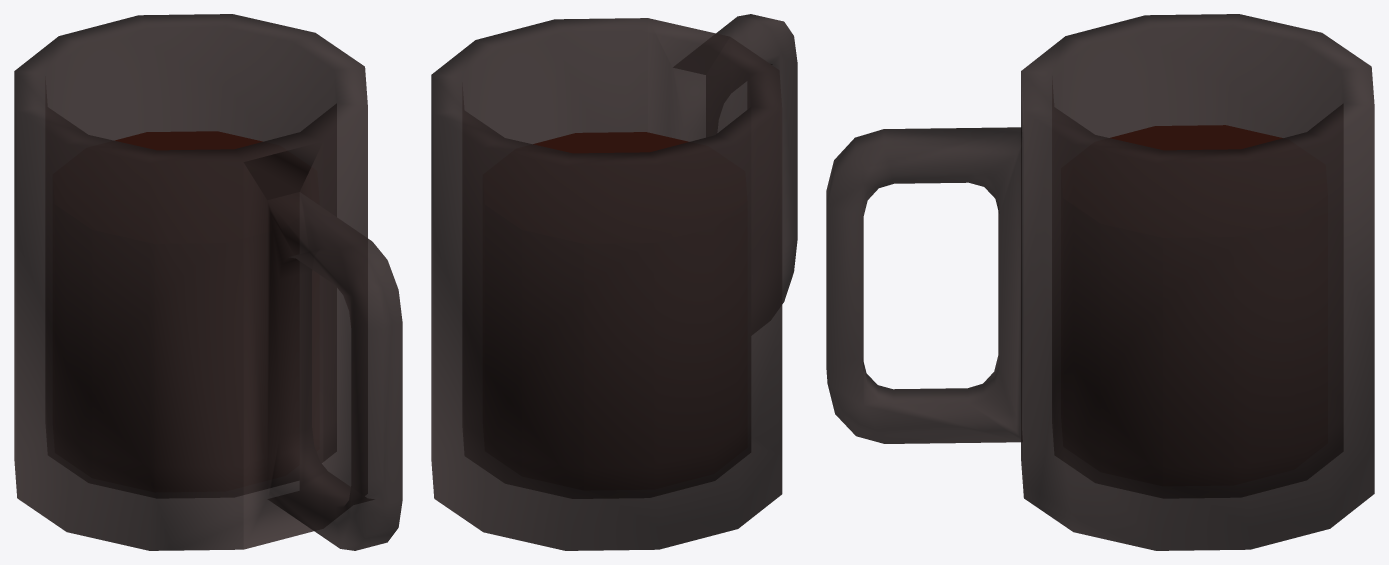
File: Mug.glb
3 renders of one model, left to right at view 1: azimuth 30°, elevation 25°; view 2: azimuth 150°, elevation 25°; view 3: azimuth 270°, elevation 25°, orthographic.
Parts seen in each view (by area): view 1: Cup; view 2: Cup; view 3: Cup.
Part boxes in pixels (left/top/right/bottom): Cup: left=14, top=14, right=402, bottom=550; Cup: left=431, top=14, right=797, bottom=550; Cup: left=826, top=14, right=1374, bottom=550.
Bounding box in the file's own units: 1.74 × 2.1 × 2.7.
Materials: 1 (1 with a texture image).
